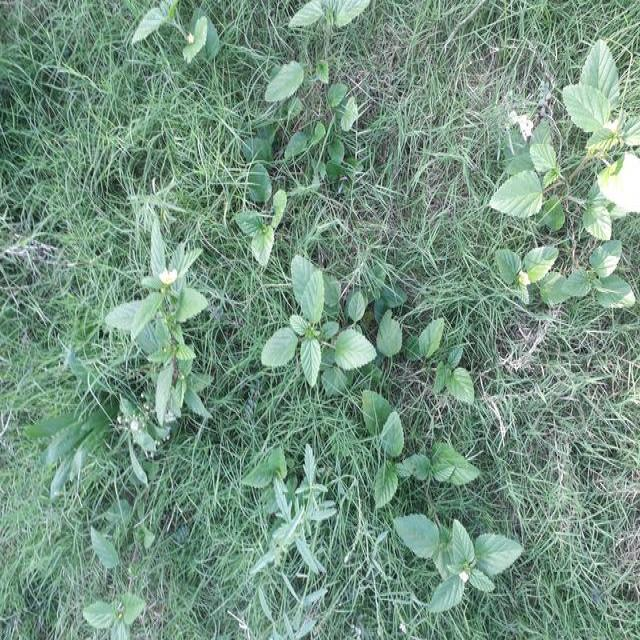weed: (510, 369, 639, 640), (378, 36, 494, 302), (150, 439, 299, 627), (15, 10, 134, 207), (562, 39, 640, 316), (102, 223, 212, 413), (143, 0, 352, 99), (4, 176, 93, 372), (392, 505, 526, 625), (491, 154, 640, 253), (250, 273, 383, 378), (248, 440, 332, 587), (359, 390, 467, 502), (296, 117, 378, 260), (66, 507, 144, 640), (28, 401, 131, 497), (222, 161, 290, 258)
